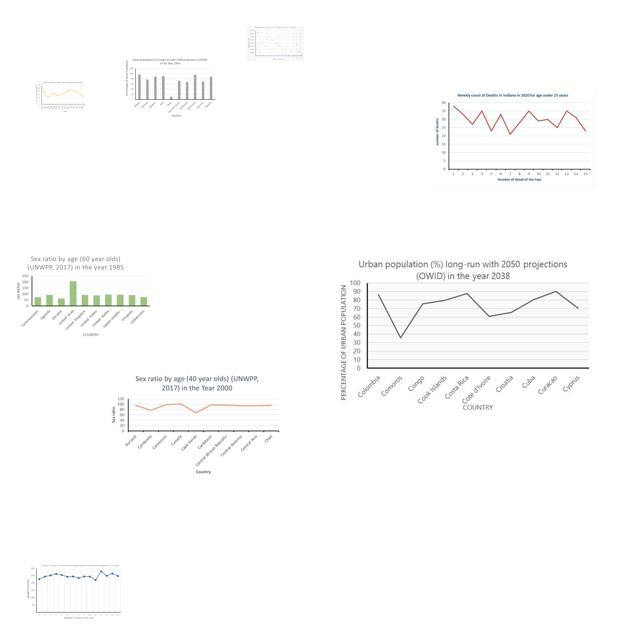Graph: (336, 256, 593, 412), (107, 373, 282, 477), (432, 90, 595, 187), (12, 253, 152, 339), (25, 562, 123, 622), (124, 57, 216, 119), (247, 26, 304, 61), (35, 81, 86, 113)
